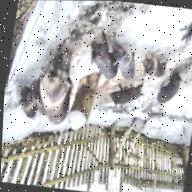boar: (38, 42, 81, 138), (110, 72, 153, 118), (107, 39, 142, 93), (84, 36, 113, 95), (153, 58, 185, 108), (16, 76, 39, 135), (140, 55, 162, 85), (153, 59, 178, 84)
